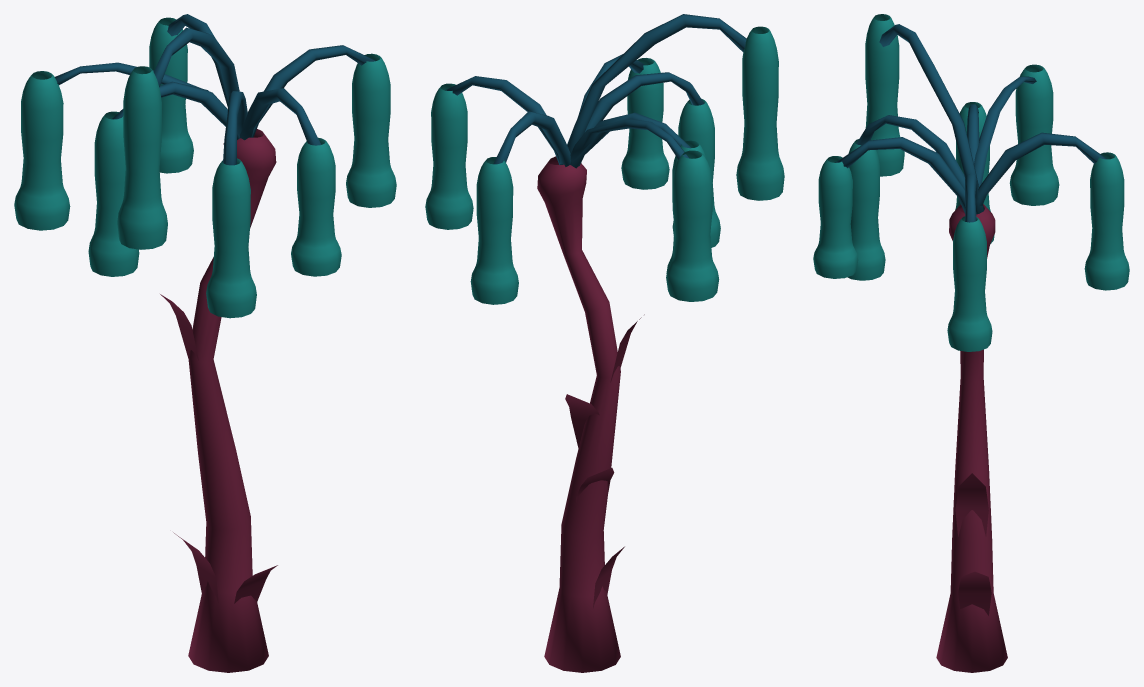
The model's file is Alien Tree.fbx.
3 renders of one model, left to right at view 1: azimuth 30°, elevation 25°; view 2: azimuth 150°, elevation 25°; view 3: azimuth 270°, elevation 25°, orthographic. The views are drawn at different scales.
Visible parts, largest first — view 1: Cylinder.007, Cylinder, Cylinder.001, Plane.003, Plane.004, Plane.006; view 2: Cylinder.007, Cylinder, Cylinder.001, Plane.005; view 3: Cylinder.007, Cylinder, Cylinder.001, Plane.001, Plane.
Part boxes in pixels (x1,y1,x2,y2): Cylinder.007: (14, 17, 396, 318); Cylinder: (188, 129, 276, 672); Cylinder.001: (55, 14, 376, 165); Plane.003: (173, 532, 218, 602); Plane.004: (234, 565, 277, 603); Plane.006: (160, 294, 198, 360); Cylinder.007: (425, 26, 784, 304); Cylinder: (537, 156, 620, 672); Cylinder.001: (445, 14, 746, 168); Plane.005: (565, 394, 599, 448); Cylinder.007: (813, 14, 1129, 351); Cylinder: (936, 204, 1007, 672); Cylinder.001: (835, 24, 1106, 222); Plane.001: (955, 473, 988, 536); Plane: (958, 571, 991, 615).
Bounding box in the file's own units: 667 × 1260 × 609.
